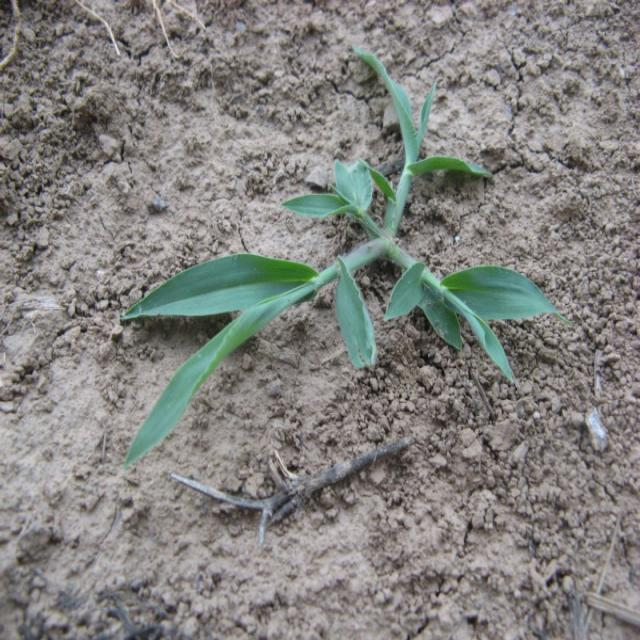bg: (126, 43, 568, 459)
